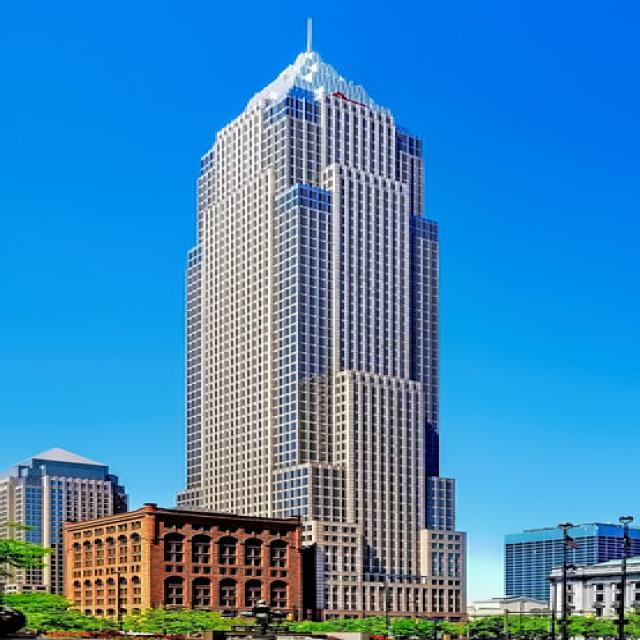building: (168, 46, 472, 631)
